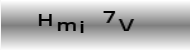7: (102, 10, 117, 24)
H: (37, 12, 53, 27)
V: (118, 17, 135, 32)
i: (79, 20, 84, 34)
m: (56, 21, 77, 31)
